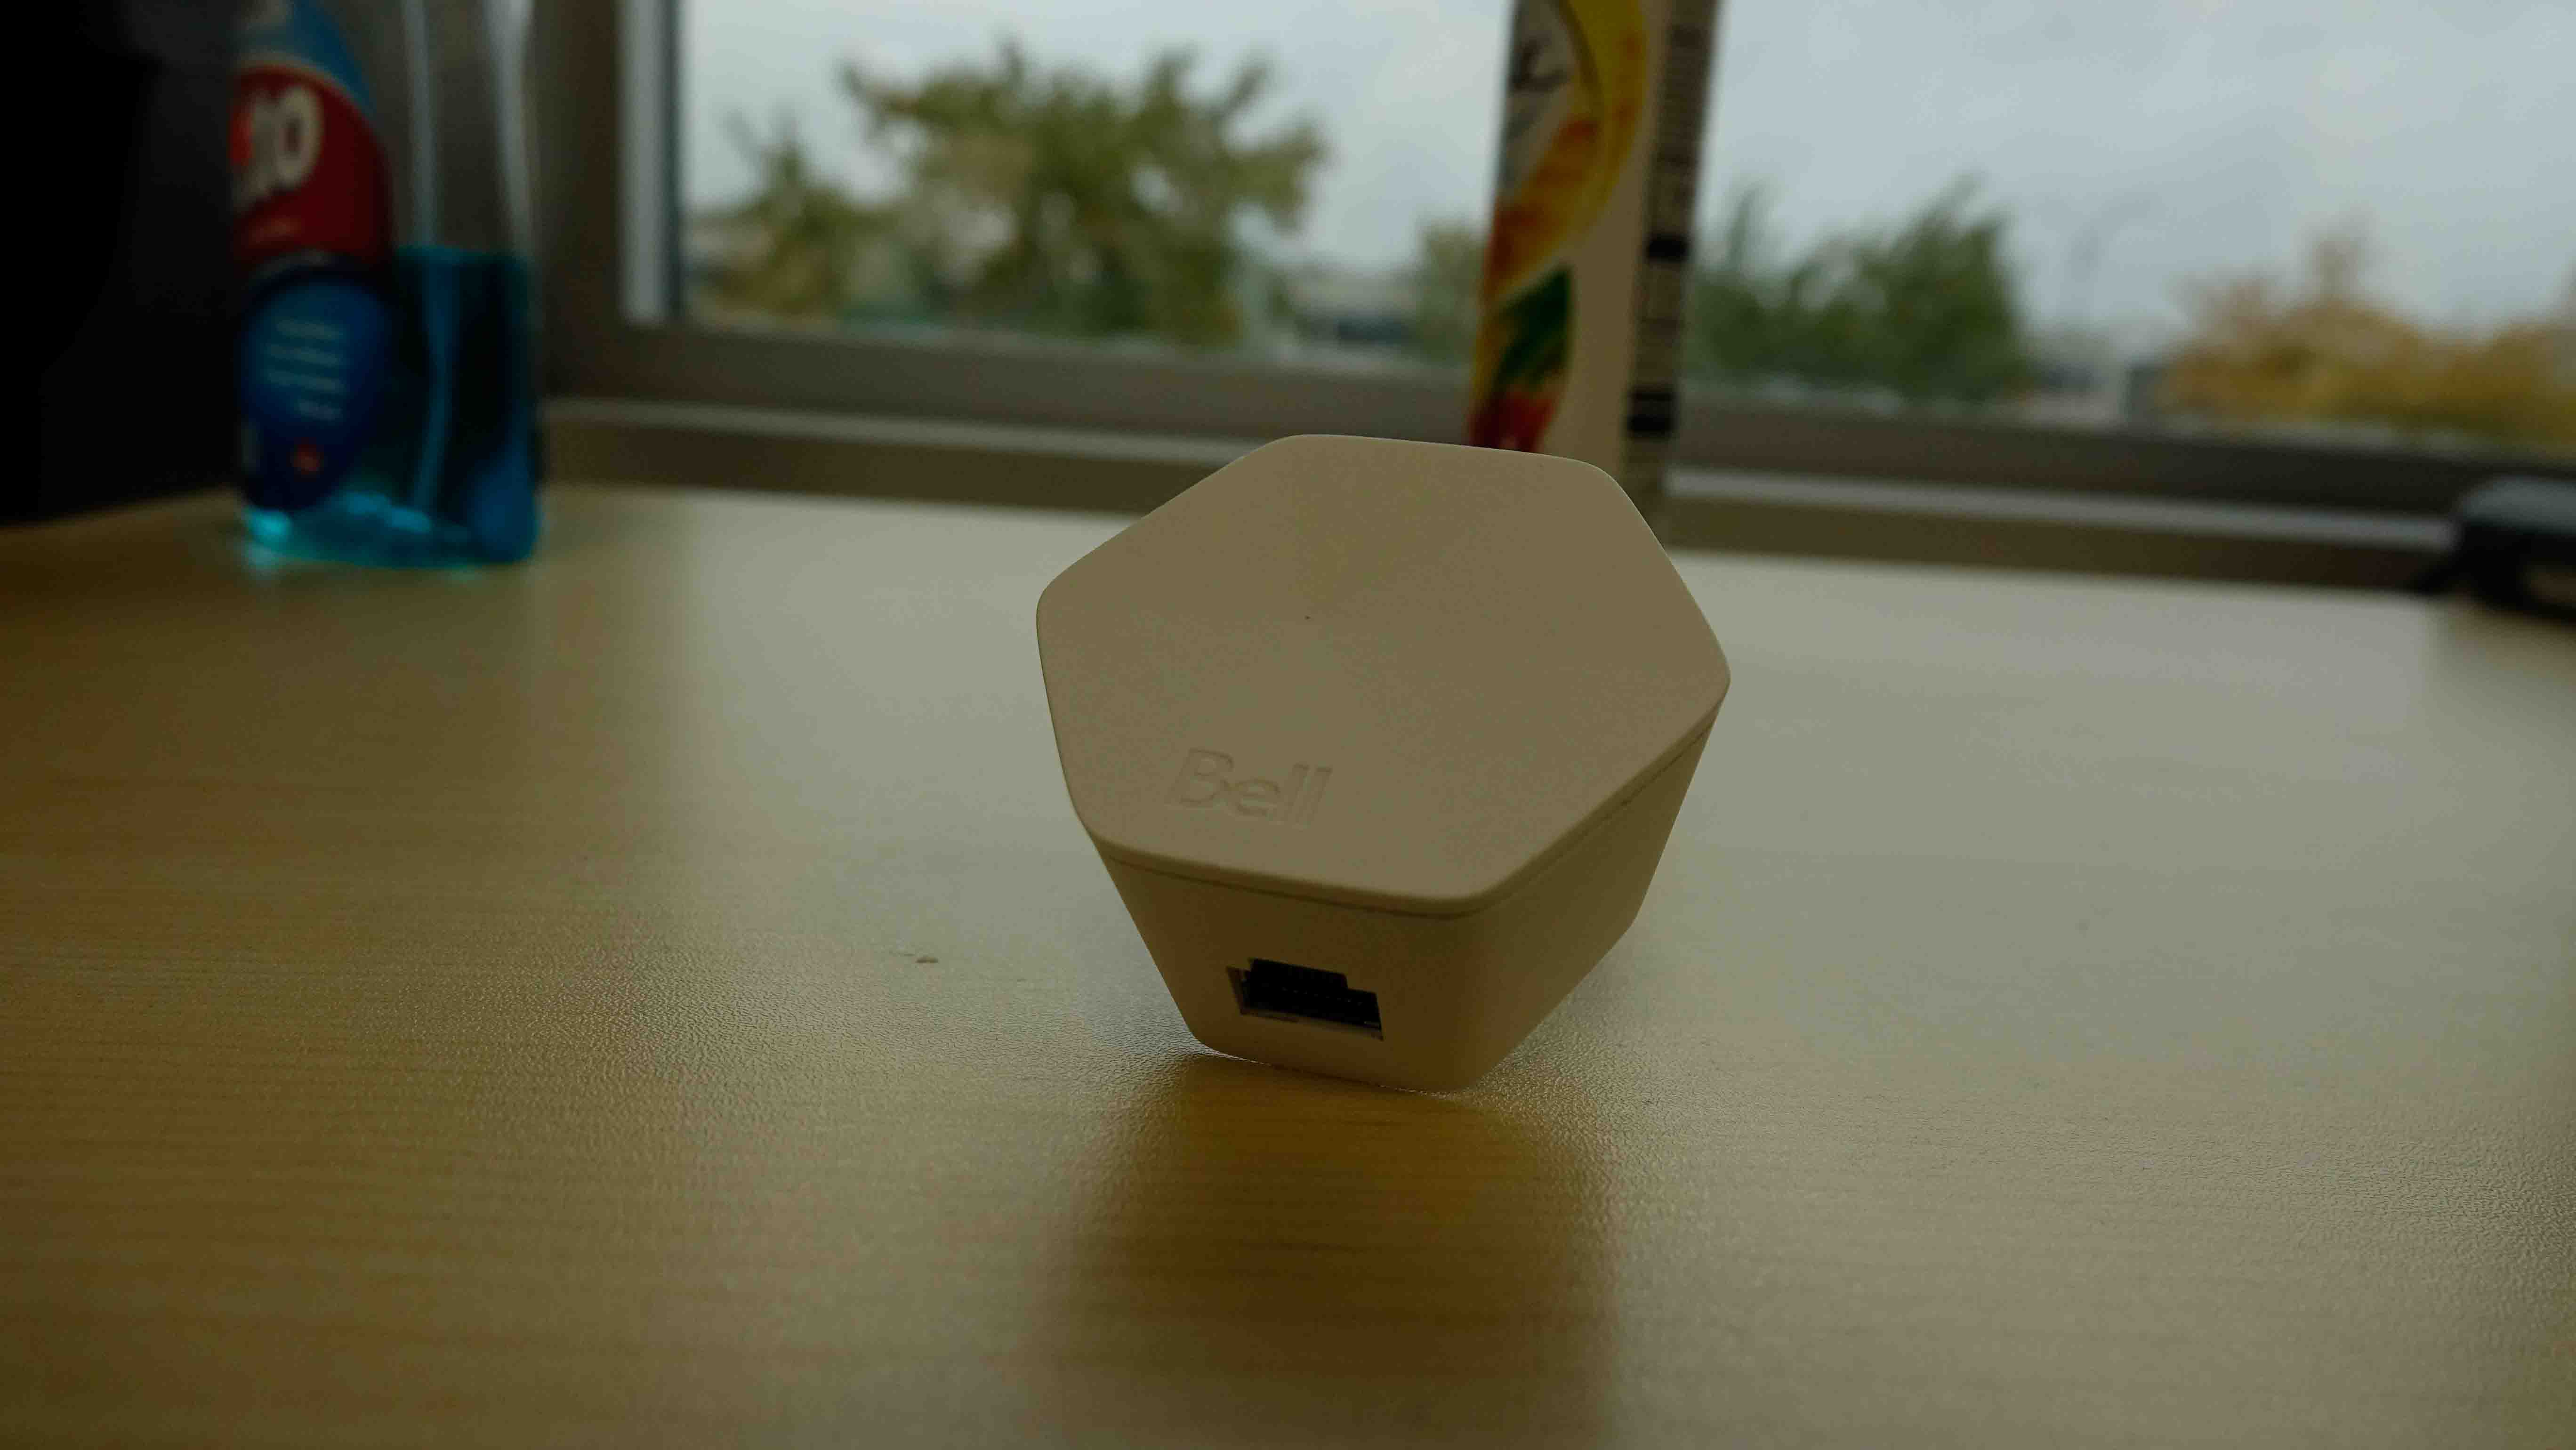pod: (1030, 426, 1752, 1110)
